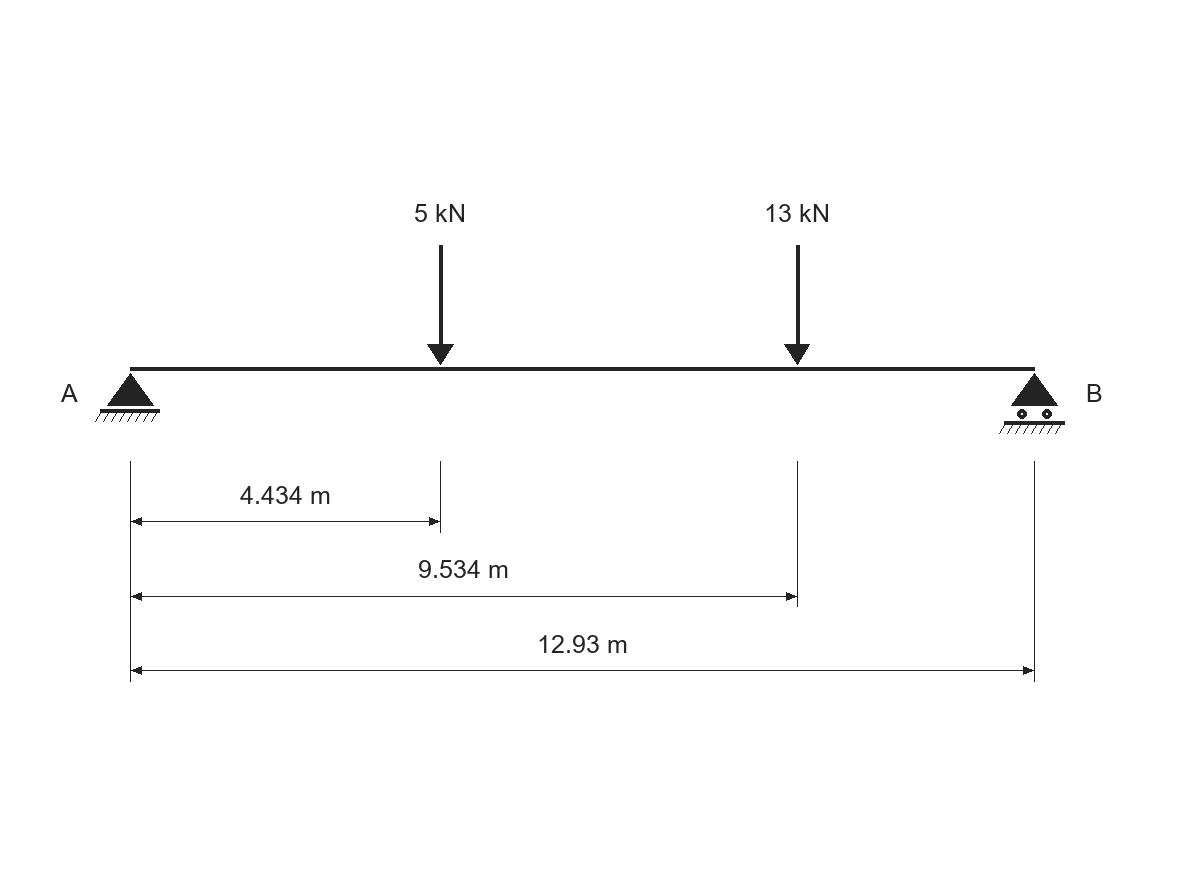pin_support: (95, 373, 160, 422)
point_load: (427, 245, 454, 365), (784, 245, 810, 365)
roller_support: (999, 373, 1065, 434)
